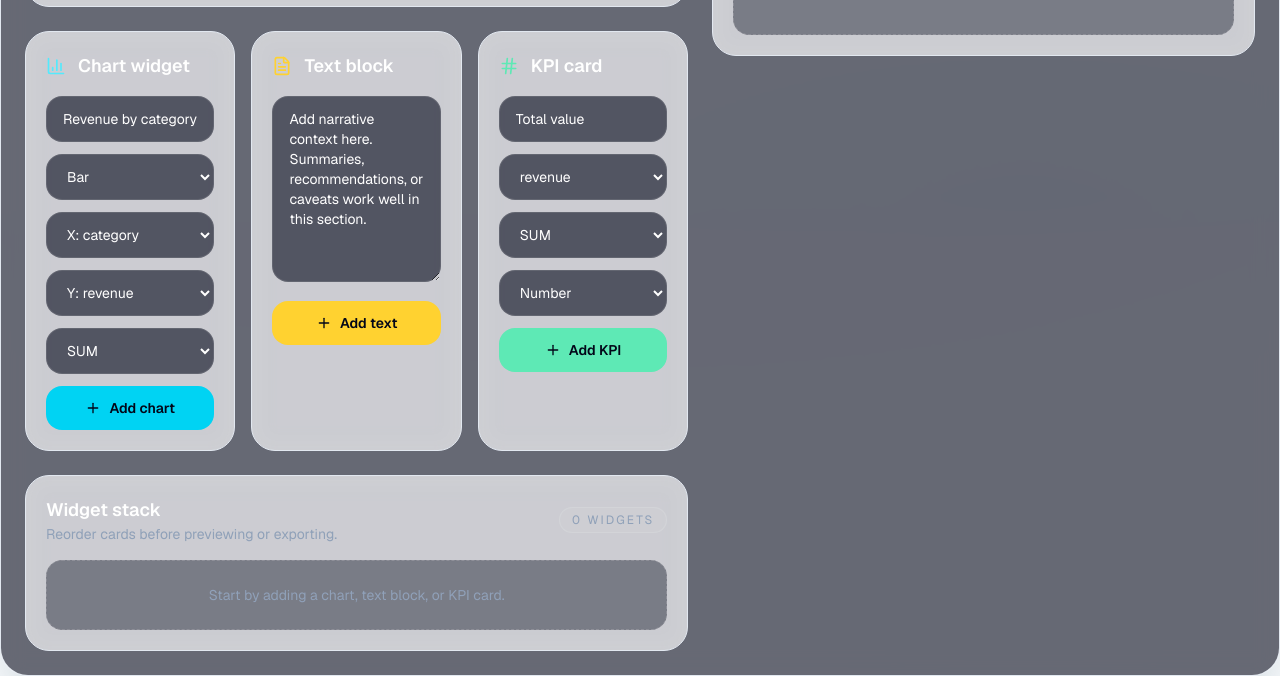
Test: ReportBuilder › removes widgets from the stack
The width and height of the screenshot is (1280, 676).
(page scrolled)
Click the button "Add chart".
click(130, 408)  # box [46,386,214,430]
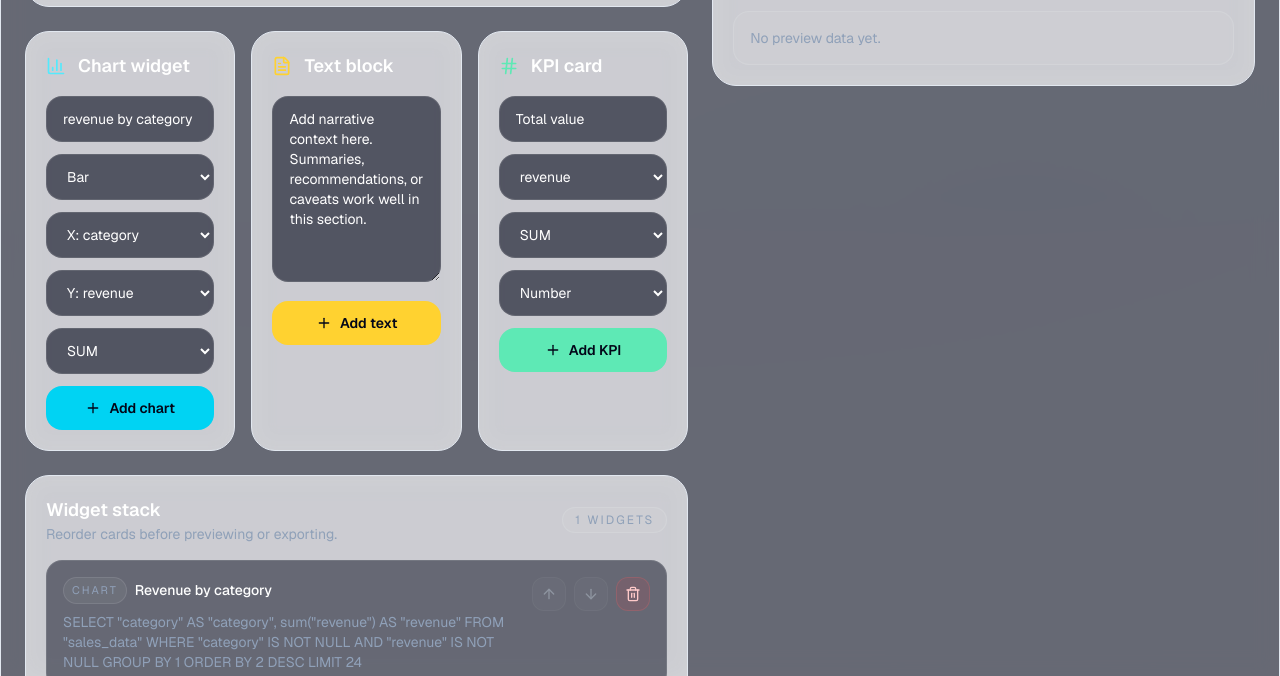
Click the button "Add text".
click(357, 323)  # box [272,301,441,345]
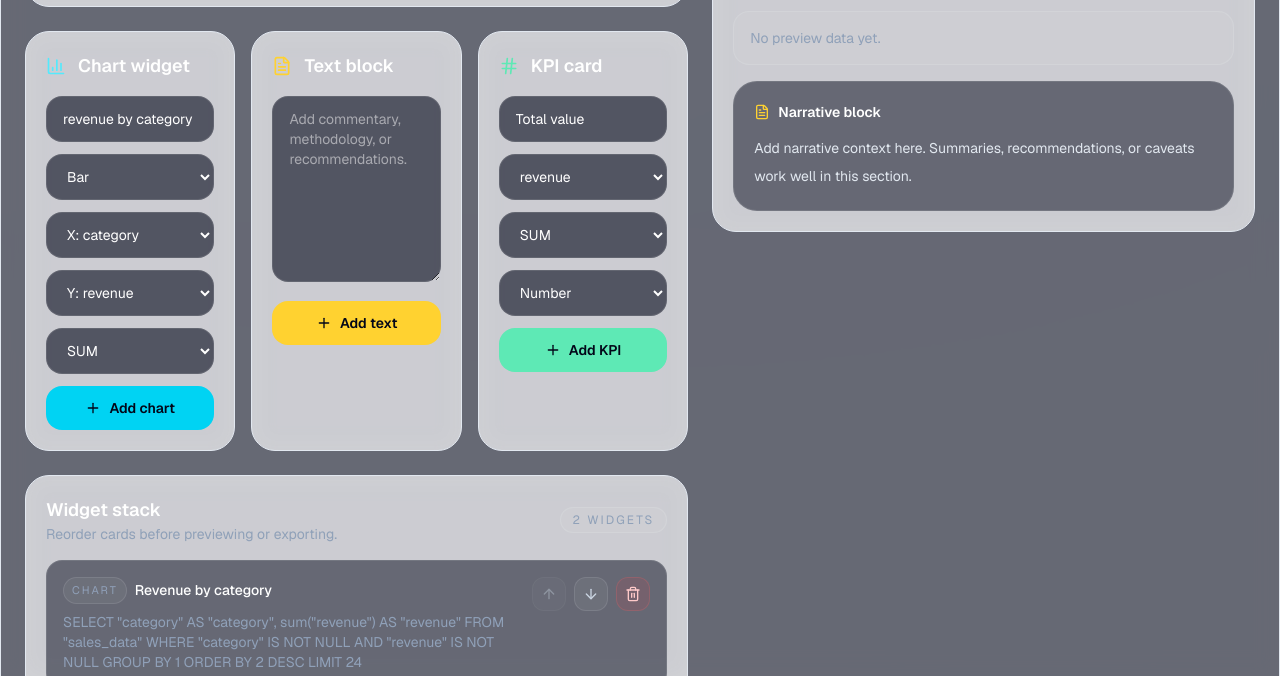
Click the button named "Remove widget".
click(633, 594)  # box [616,577,650,611]
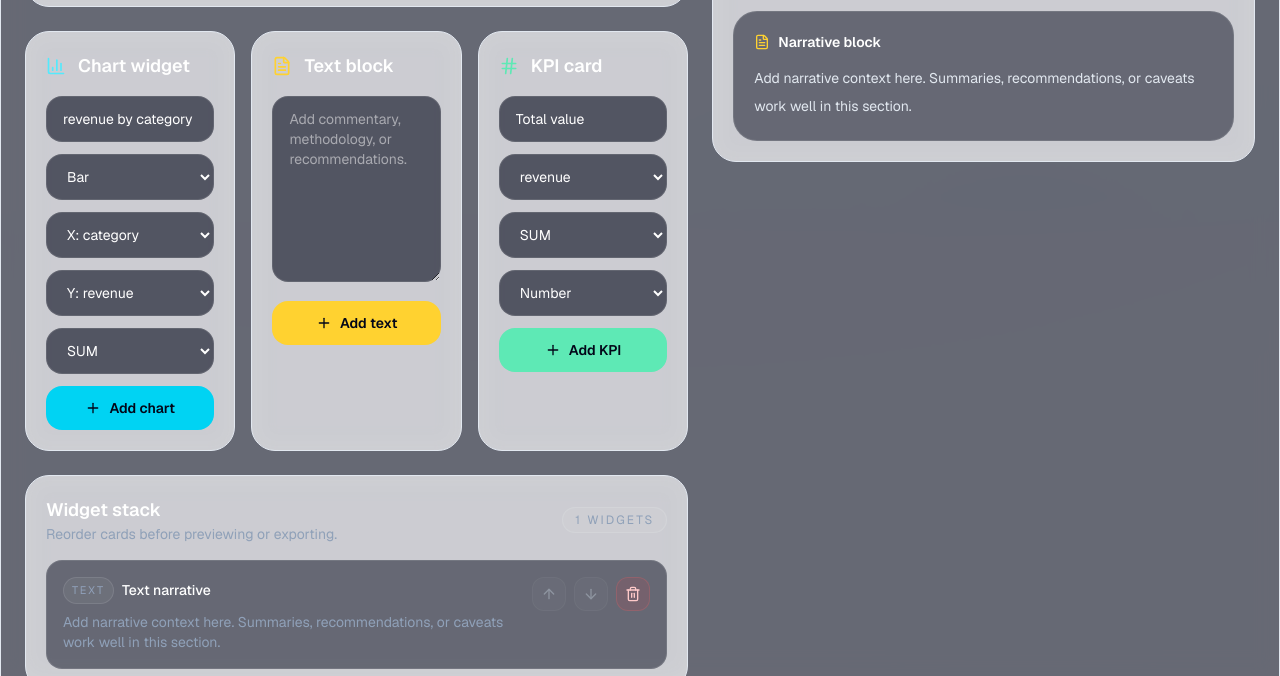
expect the number of buttons named "Remove widget" is 1: met, box [616,577,650,611]
